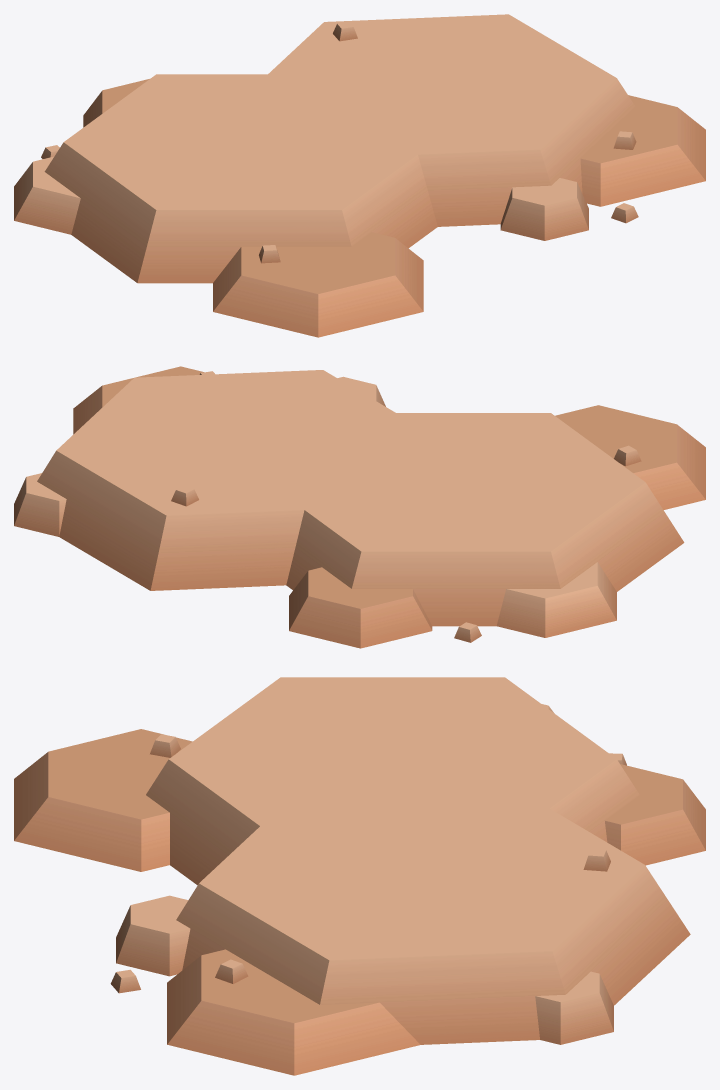
The model's file is rock-flat.glb.
3 views of the same model, one above another, from view 1: azimuth 30°, elevation 25°; view 2: azimuth 150°, elevation 25°; view 3: azimuth 270°, elevation 25° (orthographic). The views are drawn at different scales.
Visible parts, largest first — view 1: rock-flat; view 2: rock-flat; view 3: rock-flat.
Boxes of the visible parts, bbox=[...] form: rock-flat: bbox=[14, 14, 705, 337]; rock-flat: bbox=[14, 366, 705, 648]; rock-flat: bbox=[14, 677, 705, 1075].
Size of the model in its own units: 1.79 by 0.195 by 1.45.
1 material, 1 textured.
